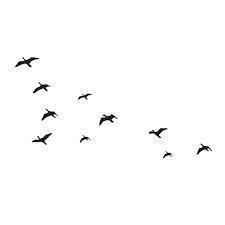bird: (15, 56, 40, 68), (32, 132, 52, 146), (99, 114, 118, 126), (41, 108, 59, 120), (33, 82, 51, 93), (149, 128, 168, 138), (197, 143, 212, 154), (78, 93, 92, 100), (80, 135, 90, 144), (163, 151, 173, 158)
